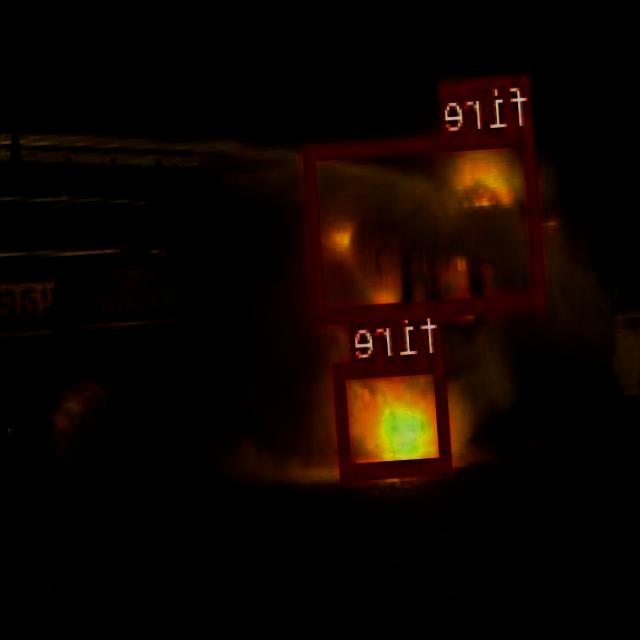fire: (304, 127, 546, 320), (334, 352, 453, 475)
